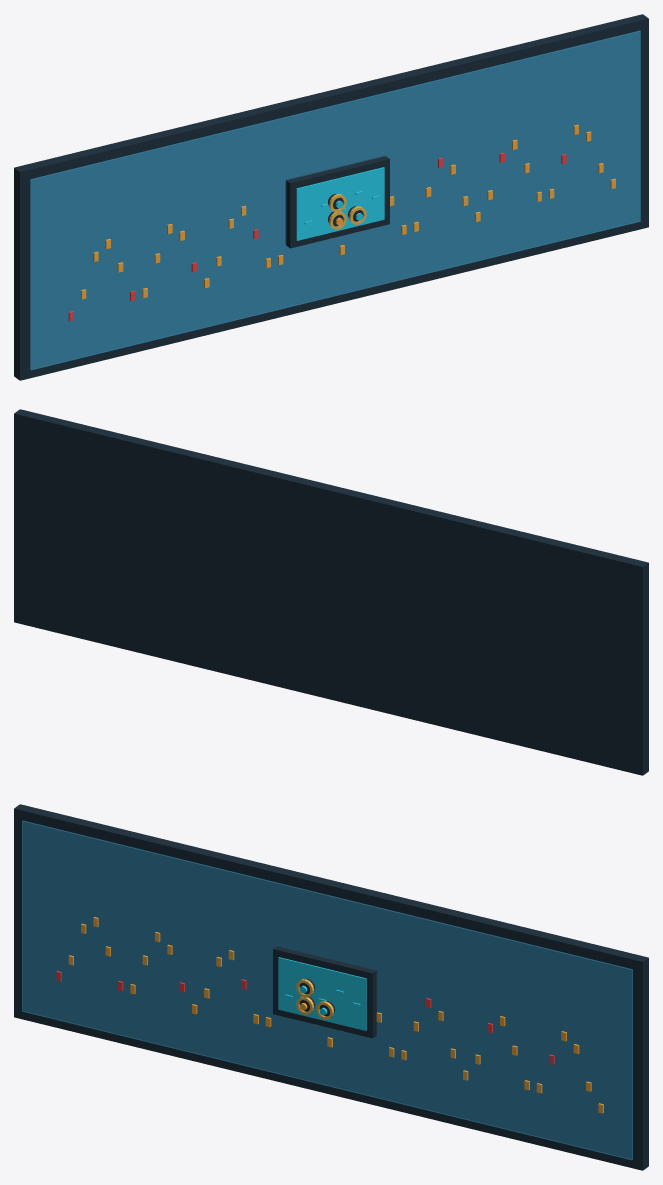
Rendered from 66_L82_HolographicEMCAnalysisSCADA.fbx.
3 renders of one model, top to bottom at view 1: azimuth 30°, elevation 25°; view 2: azimuth 150°, elevation 25°; view 3: azimuth 330°, elevation 25°, orthographic.
Visible parts, largest first — view 1: HolographicEMCAnalysisSCADA, HolographicEMCAnalysisSCADA_Part_0048, HolographicEMCAnalysisSCADA_Part_0047; view 2: HolographicEMCAnalysisSCADA; view 3: HolographicEMCAnalysisSCADA, HolographicEMCAnalysisSCADA_Part_0048, HolographicEMCAnalysisSCADA_Part_0047.
Boxes of the visible parts, x1=… form: HolographicEMCAnalysisSCADA: x1=14, y1=14, x2=648, y2=380; HolographicEMCAnalysisSCADA_Part_0048: x1=296, y1=167, x2=384, y2=240; HolographicEMCAnalysisSCADA_Part_0047: x1=285, y1=155, x2=389, y2=248; HolographicEMCAnalysisSCADA: x1=14, y1=409, x2=648, y2=775; HolographicEMCAnalysisSCADA: x1=14, y1=804, x2=648, y2=1170; HolographicEMCAnalysisSCADA_Part_0048: x1=278, y1=957, x2=366, y2=1030; HolographicEMCAnalysisSCADA_Part_0047: x1=273, y1=945, x2=377, y2=1038.
Bounding box in the file's own units: 536 × 170 × 32.1.
